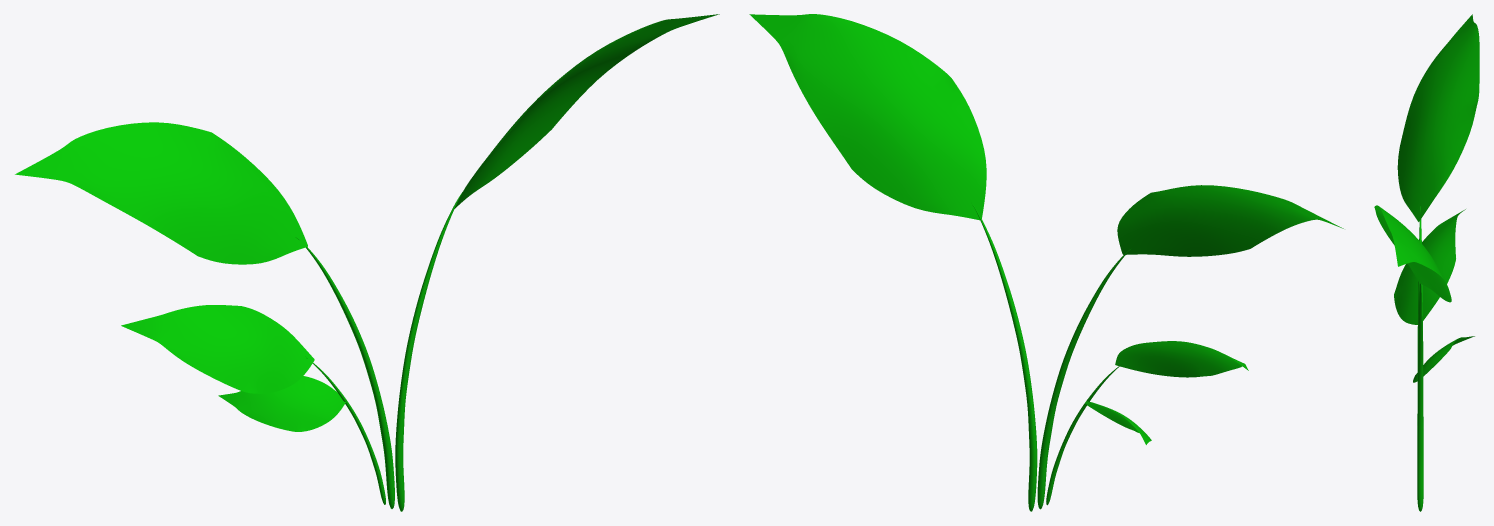
File: leaf.fbx
The picture shows the model from 3 angles, left to right: view 1: azimuth 30°, elevation 25°; view 2: azimuth 150°, elevation 25°; view 3: azimuth 270°, elevation 25°; orthographic projection. The views are drawn at different scales.
Visible parts, largest first — view 1: leaf6, leaf2, new_plant_3:planarTrimmedSurface3, leaf1, leaf5, leaf7; view 2: new_plant_3:planarTrimmedSurface3, leaf6, leaf2, leaf5, leaf7; view 3: leaf6, leaf2, new_plant_3:planarTrimmedSurface3, leaf5, leaf1, leaf7.
Boxes of the visible parts, <box> form: leaf6: <box>15,122,307,264</box>; leaf2: <box>121,305,314,393</box>; new_plant_3:planarTrimmedSurface3: <box>454,14,719,208</box>; leaf1: <box>218,376,345,431</box>; leaf5: <box>395,192,462,511</box>; leaf7: <box>295,237,394,508</box>; new_plant_3:planarTrimmedSurface3: <box>749,14,986,220</box>; leaf6: <box>1117,185,1343,256</box>; leaf2: <box>1115,341,1248,377</box>; leaf5: <box>971,202,1037,511</box>; leaf7: <box>1037,248,1131,509</box>; leaf6: <box>1397,14,1479,221</box>; leaf2: <box>1394,209,1465,324</box>; new_plant_3:planarTrimmedSurface3: <box>1374,205,1451,302</box>; leaf5: <box>1417,283,1423,511</box>; leaf1: <box>1413,336,1474,382</box>; leaf7: <box>1417,206,1423,428</box>.
Size of the model in its own units: 26.91 by 17.29 by 4.29.
